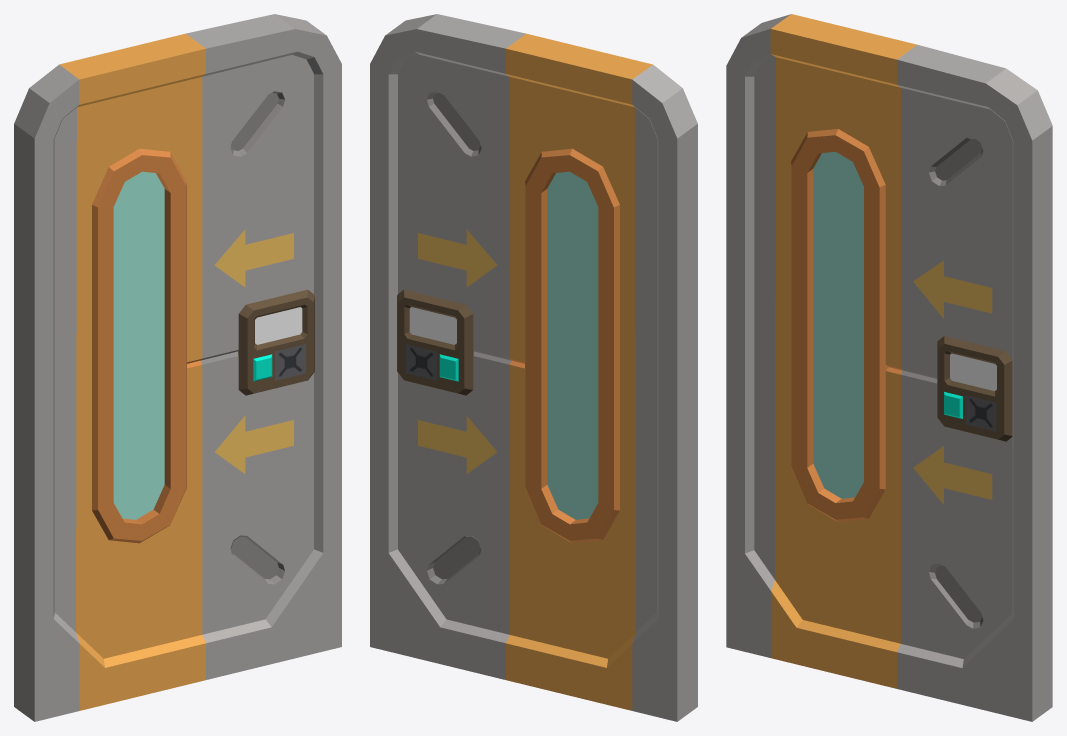
File: SM_Bld_Door_NoFrame_Single_03.fbx
3 renders of one model, left to right at view 1: azimuth 30°, elevation 25°; view 2: azimuth 150°, elevation 25°; view 3: azimuth 330°, elevation 25°, orthographic.
Visible parts, largest first — view 1: SM_Bld_Door_NoFrame_Single_03, SM_Bld_Door_NoFrame_Single_03_Glass; view 2: SM_Bld_Door_NoFrame_Single_03, SM_Bld_Door_NoFrame_Single_03_Glass; view 3: SM_Bld_Door_NoFrame_Single_03, SM_Bld_Door_NoFrame_Single_03_Glass.
Part boxes in pixels (box(x1,y1,x2,y2)): SM_Bld_Door_NoFrame_Single_03: box(14, 14, 341, 721); SM_Bld_Door_NoFrame_Single_03_Glass: box(113, 171, 164, 519); SM_Bld_Door_NoFrame_Single_03: box(370, 14, 697, 721); SM_Bld_Door_NoFrame_Single_03_Glass: box(547, 171, 598, 519); SM_Bld_Door_NoFrame_Single_03: box(726, 14, 1052, 721); SM_Bld_Door_NoFrame_Single_03_Glass: box(813, 151, 863, 498).
Size of the model in its own units: 100 by 197 by 12.89.
